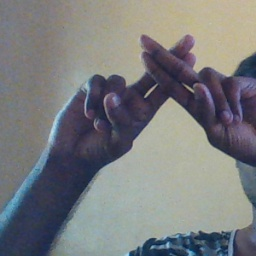F: (95, 23, 241, 141)
